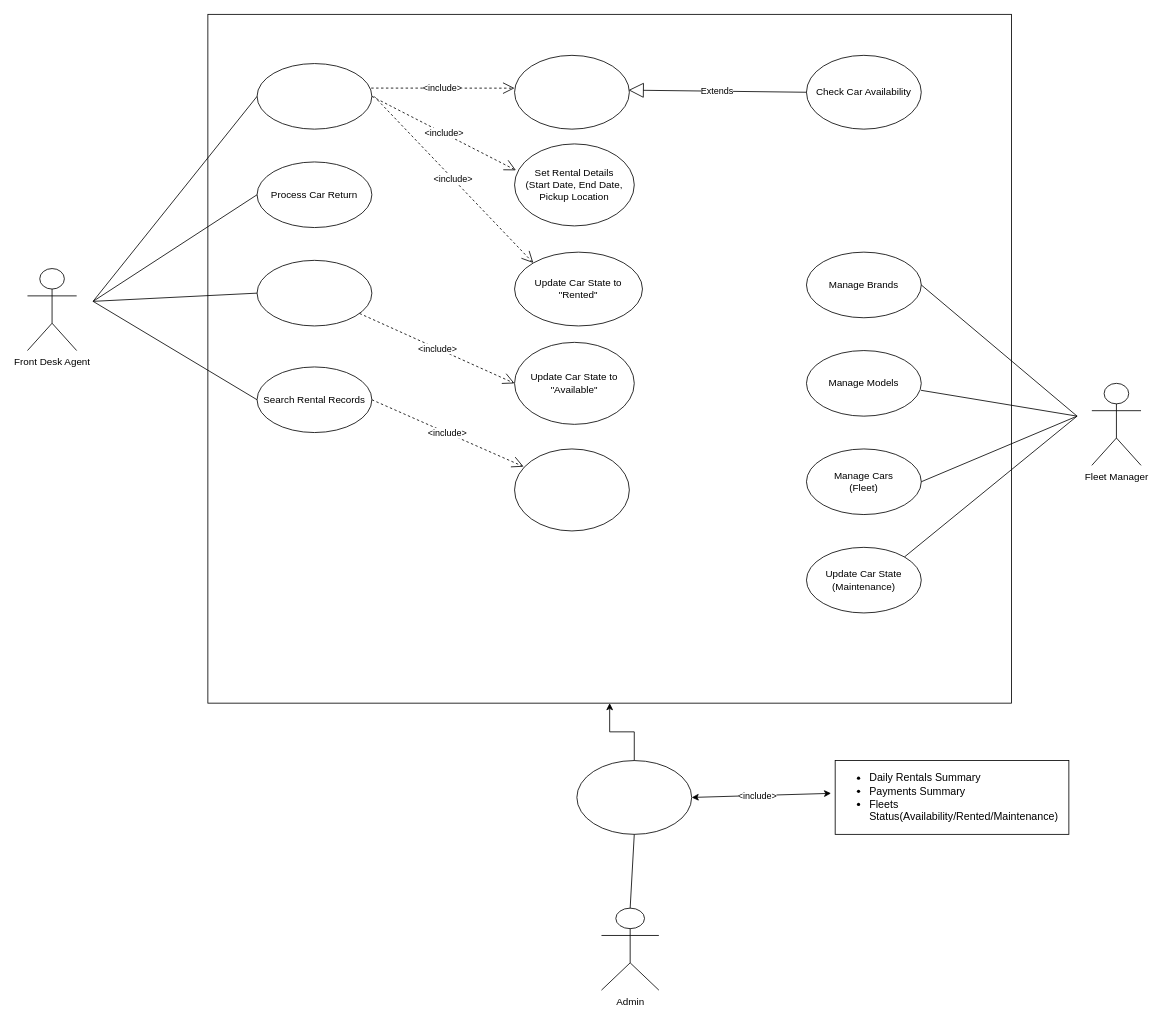
This 1162x1022 diagram has some shape labels left out. Here are the shapes that lost their labels. From the top down, the centre of each, then its label:
At (x=314, y=96): "Create Rental Booking".
At (x=571, y=92): "Select Car".
At (x=314, y=293): "Record Payment".
At (x=571, y=489): "Link Payment to Rental".
At (x=634, y=797): "View Reports (Rentals & Payments)".
